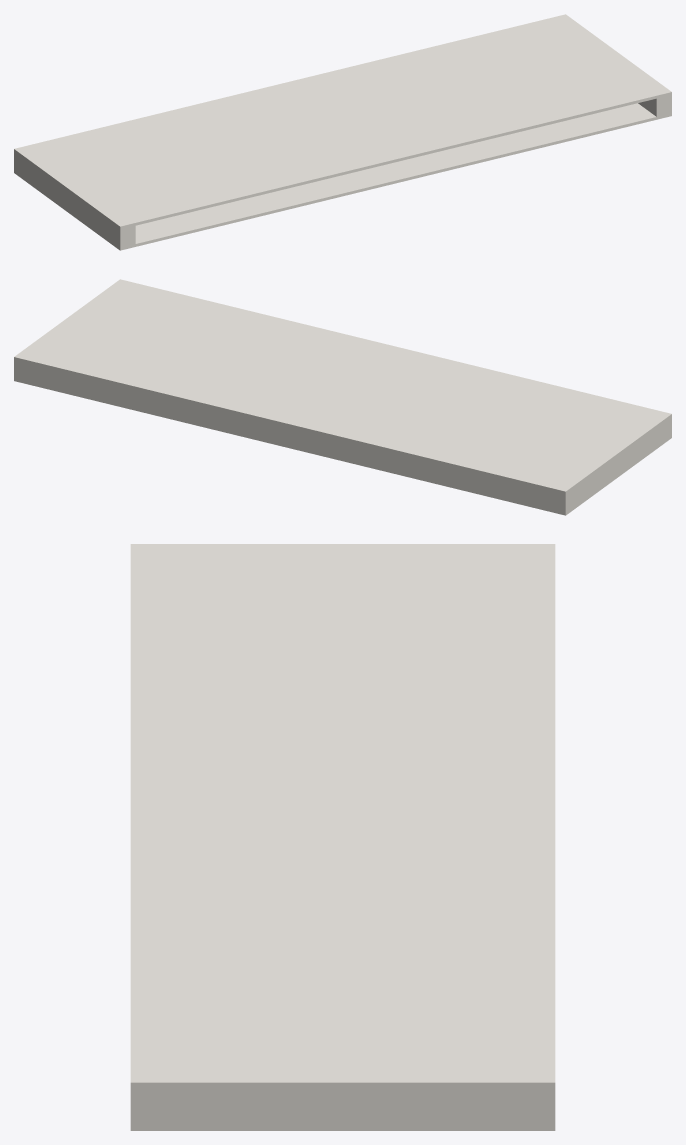
Rendered from Shelf no light.glb.
The picture shows the model from 3 angles, top to bottom: view 1: azimuth 30°, elevation 25°; view 2: azimuth 150°, elevation 25°; view 3: azimuth 270°, elevation 25°; orthographic projection. The views are drawn at different scales.
Visible parts, largest first — view 1: Geom3D_skpE608; view 2: Geom3D_skpE608; view 3: Geom3D_skpE608.
Part boxes in pixels (box(x1,y1,x2,y2)): Geom3D_skpE608: box(14, 14, 671, 250); Geom3D_skpE608: box(14, 279, 671, 515); Geom3D_skpE608: box(130, 544, 555, 1130).
Bounding box in the file's own units: 0.9144 × 0.0381 × 0.3048.
Materials: 1 (1 with a texture image).
